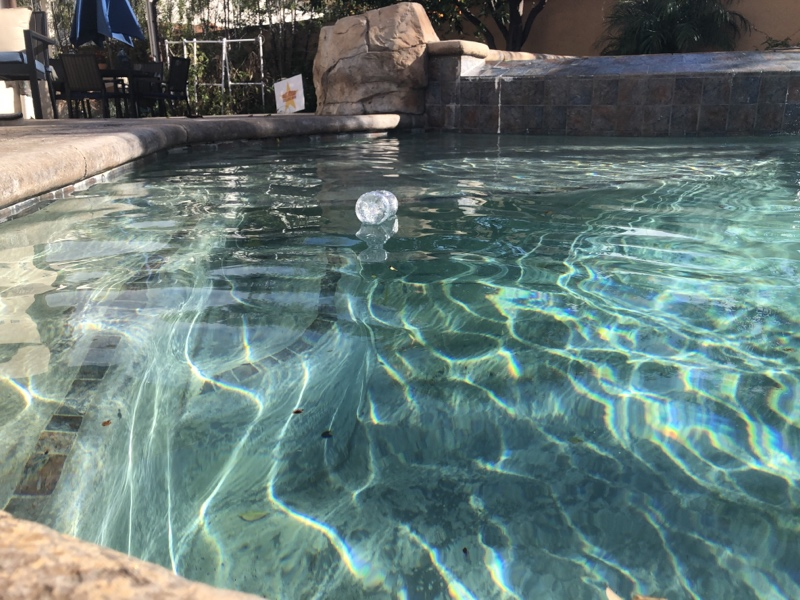Plastic Bottle: (354, 185, 400, 232)
